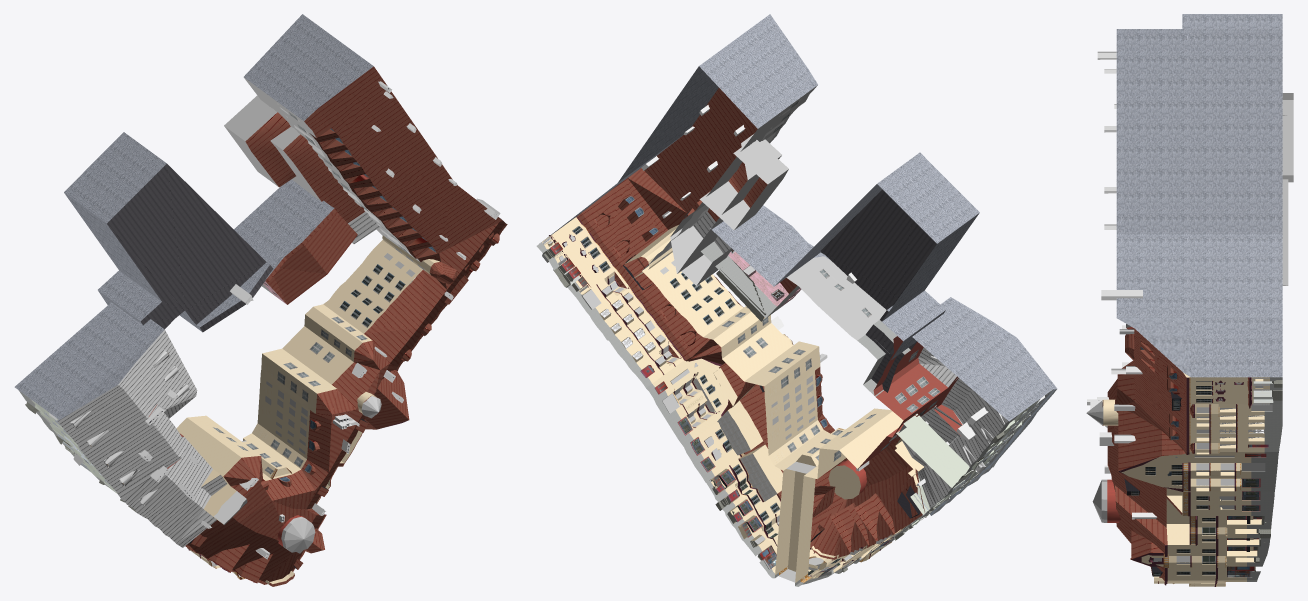
The model's file is Vaike-Karja_1_Sauna_2-origo.obj.
The picture shows the model from 3 angles, left to right: view 1: azimuth 30°, elevation 25°; view 2: azimuth 150°, elevation 25°; view 3: azimuth 270°, elevation 25°; orthographic projection. The views are drawn at different scales.
Visible parts, largest first — view 1: vk_sauna; view 2: vk_sauna; view 3: vk_sauna.
Part boxes in pixels (<box>): vk_sauna: <box>14,14,507,586</box>; vk_sauna: <box>536,14,1057,586</box>; vk_sauna: <box>1086,14,1293,586</box>.
Size of the model in its own units: 85.5 by 90 by 28.3.
